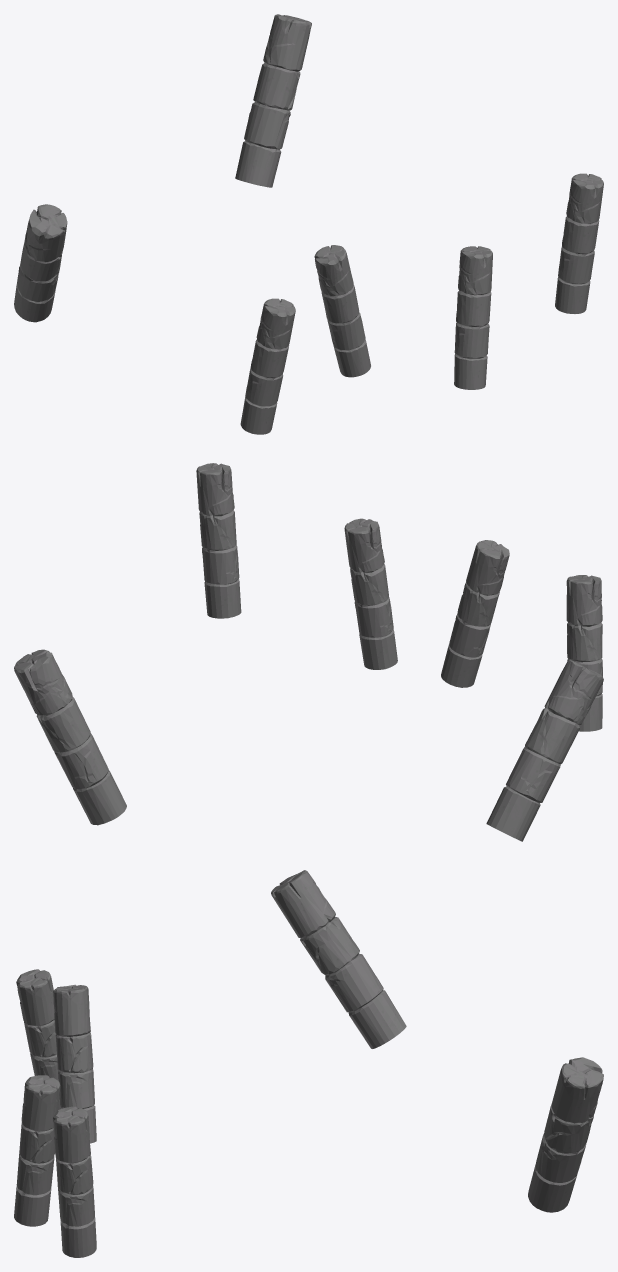
File: Pillar_CA.fbx
3 renders of one model, top to bottom at view 1: azimuth 30°, elevation 25°; view 2: azimuth 150°, elevation 25°; view 3: azimuth 270°, elevation 25°, orthographic. The views are drawn at different scales.
Visible parts, largest first — view 1: SM_ENV_AMVLLG02_Pillar_CA.mo; view 2: SM_ENV_AMVLLG02_Pillar_CA.mo; view 3: SM_ENV_AMVLLG02_Pillar_CA.mo.
Boxes of the visible parts, x1,y1,x2,y2 form: SM_ENV_AMVLLG02_Pillar_CA.mo: (14,14,603,434); SM_ENV_AMVLLG02_Pillar_CA.mo: (14,463,603,841); SM_ENV_AMVLLG02_Pillar_CA.mo: (14,870,603,1257).
Bounding box in the file's own units: 5822 × 2093 × 5694.
